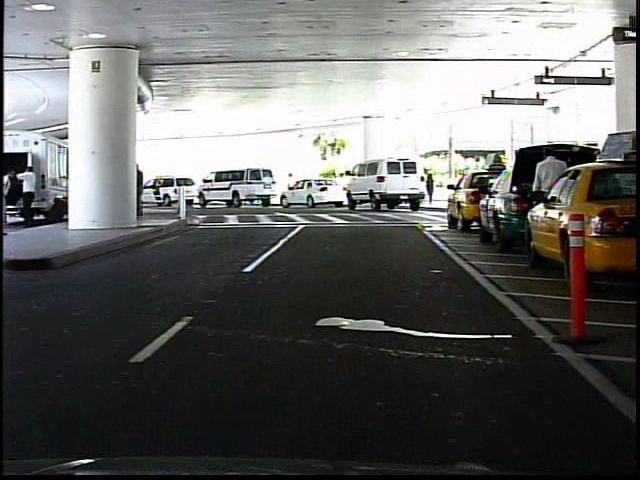person: (528, 144, 568, 258), (282, 170, 298, 204), (424, 172, 438, 208)
